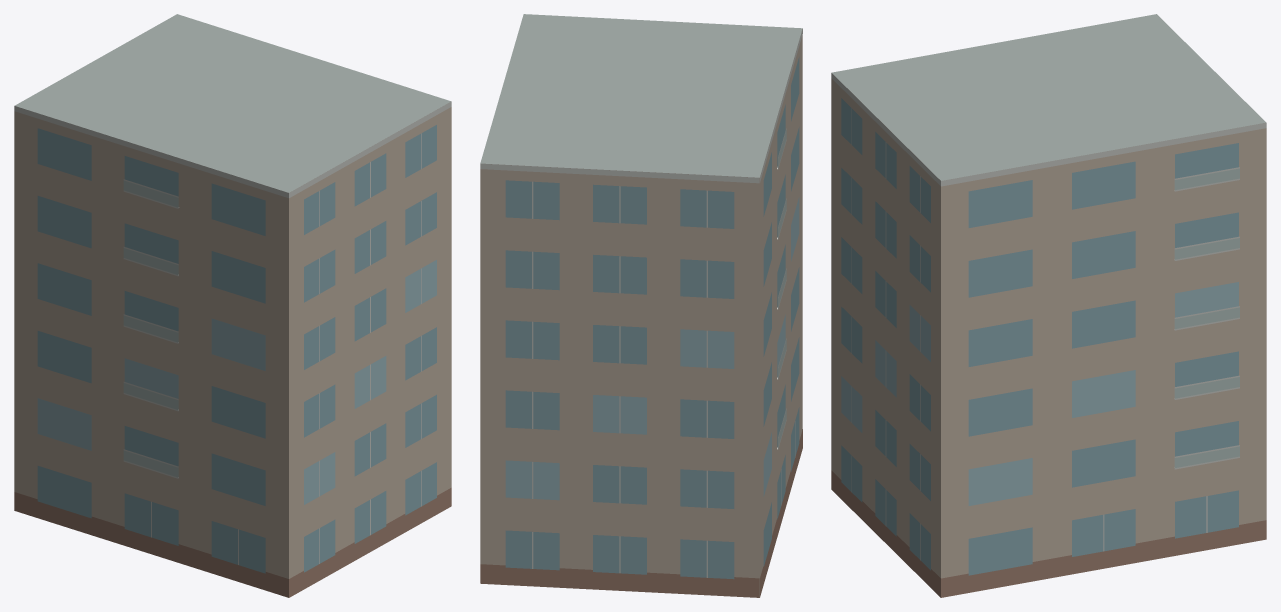
File: survey-upis-32923078.glb
3 renders of one model, left to right at view 1: azimuth 30°, elevation 25°; view 2: azimuth 150°, elevation 25°; view 3: azimuth 270°, elevation 25°, orthographic. The views are drawn at different scales.
Parts seen in each view (by area): view 1: survey-upis-32923078.tmp; view 2: survey-upis-32923078.tmp; view 3: survey-upis-32923078.tmp.
Boxes of the visible parts, x1,y1,x2,y2 form: survey-upis-32923078.tmp: (14,14,451,597); survey-upis-32923078.tmp: (480,14,802,597); survey-upis-32923078.tmp: (831,14,1266,597).
Size of the model in its own units: 15.73 by 18.3 by 17.32.
